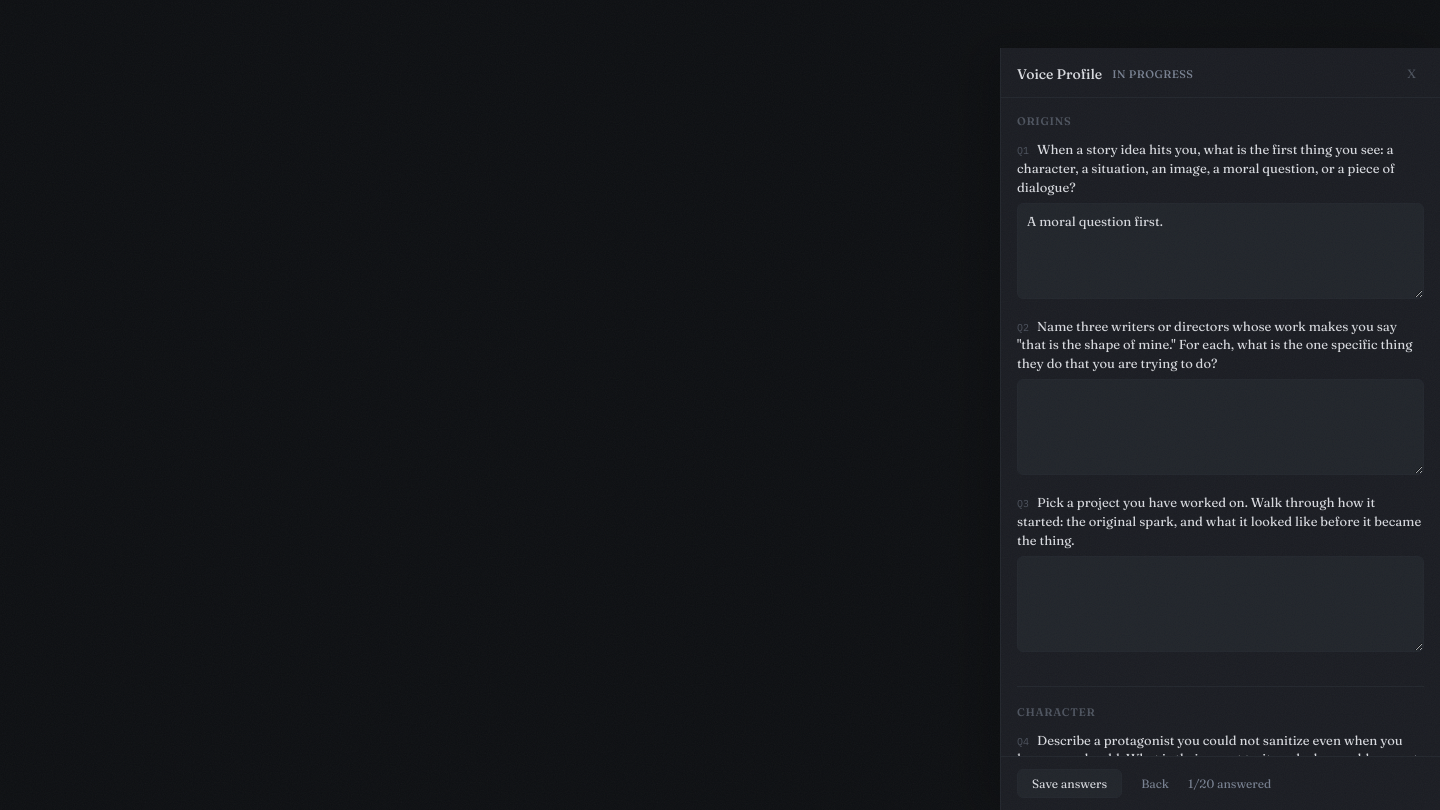
Test: VoiceProfileDrawer › can return from draft assessment to the progress empty state
Click the button "Back": click(1155, 784) 1130,769 -> 1180,798
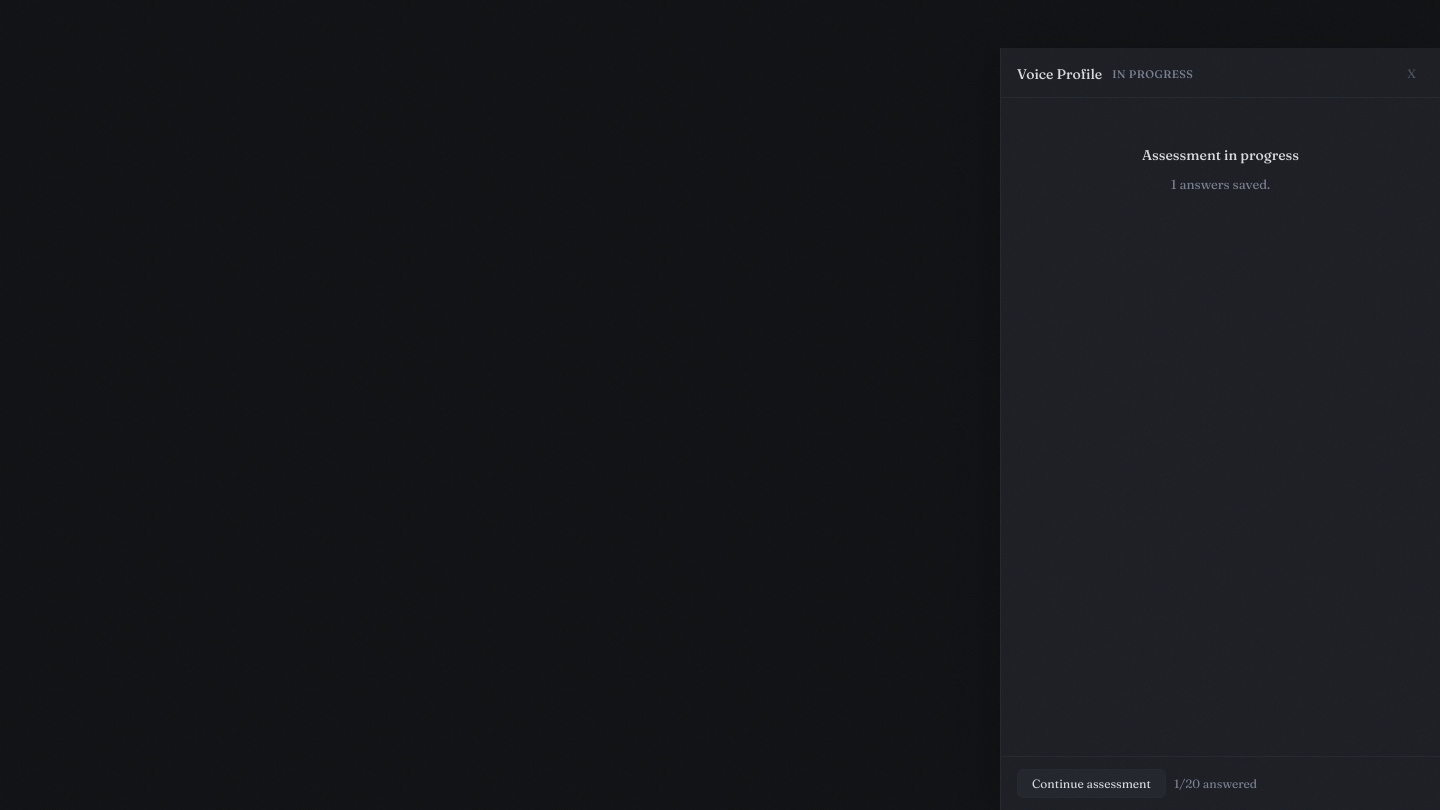
Expected: the text "1/20 answered" is shown, 1174,774 -> 1257,792
Now the text "Assessment in progress" is shown, box 1142,146 -> 1299,164
Now the button "Continue assessment" is shown, box 1017,769 -> 1166,798
